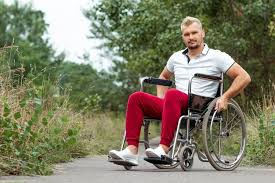wheelchair: (107, 16, 251, 169)
